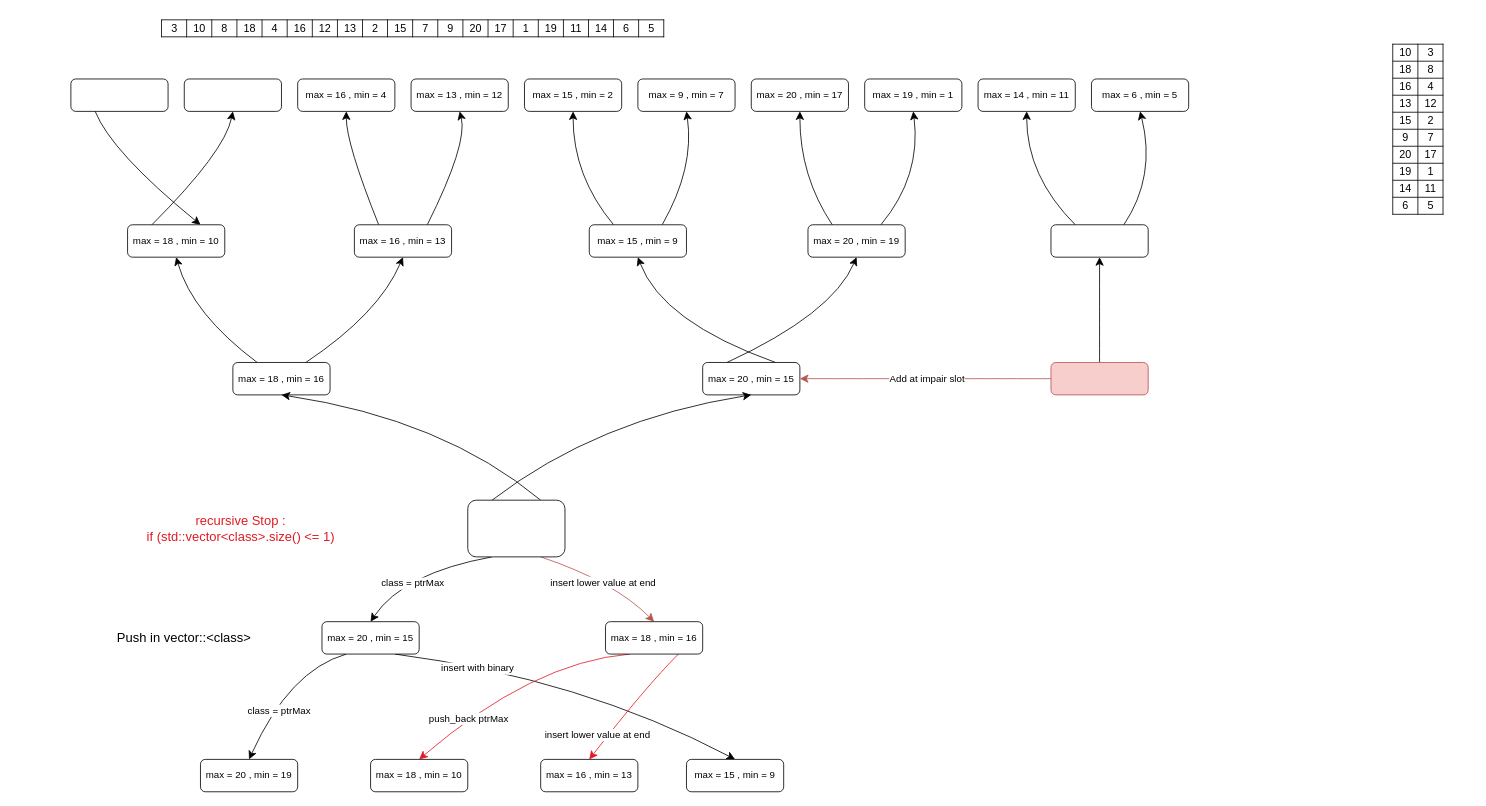
This 1486x806 diagram has some shape labels left out. Here are the shapes that lost their labels. From the top down, the centre of each, then its label:
At point 119,94: "max = 10 , min = 3".
At point 232,94: "max = 18 , min = 8".
At point 1099,240: "max = 14 , min = 6".
At point 1099,378: "max = 14 , min = impair".
At point 516,528: "ptrMin = pair min ptrMax = pair max max = 20 , min = 18".
